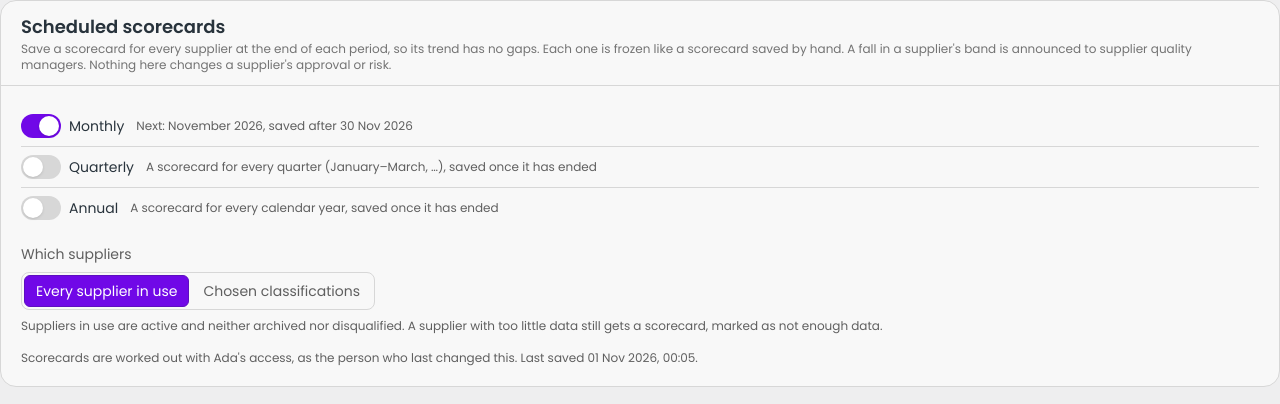
Test case: scheduled scorecards › switches each period on and off on its own, at once
Expected: the text "Next: November 2026, saved after 30 Nov 2026" is shown, [136,118,413,134]
Expected: the text "worked out with Ada's access" is shown, [21,349,517,366]
Step 1. Click the switch named "Quarterly scorecards" → (78, 167), box [21,155,134,179]
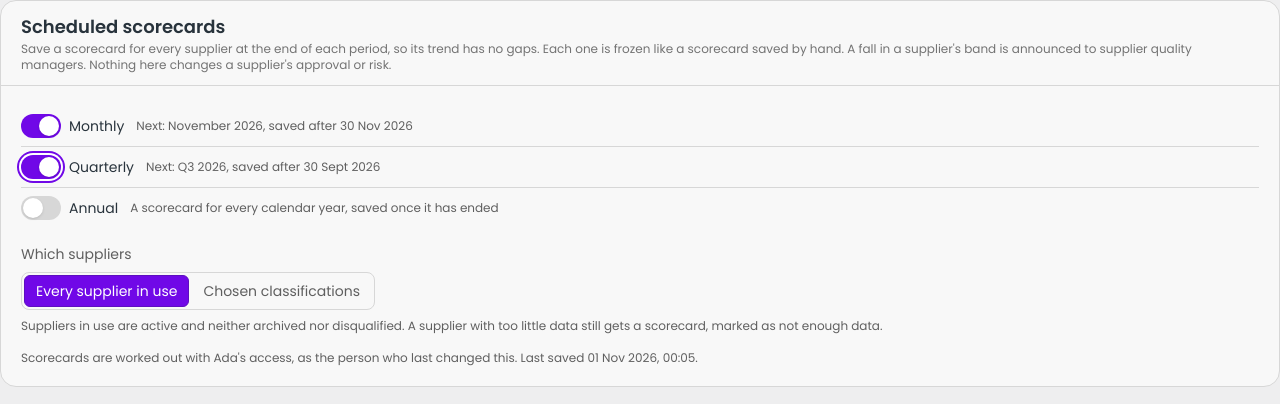
Expected: the switch named "Monthly scorecards" is checked, [21,114,124,138]
Now the switch named "Quarterly scorecards" is checked, box [21,155,134,179]
Now the text "Next: Q3 2026, saved after 30 Sept 2026" is shown, box [146,159,380,175]
